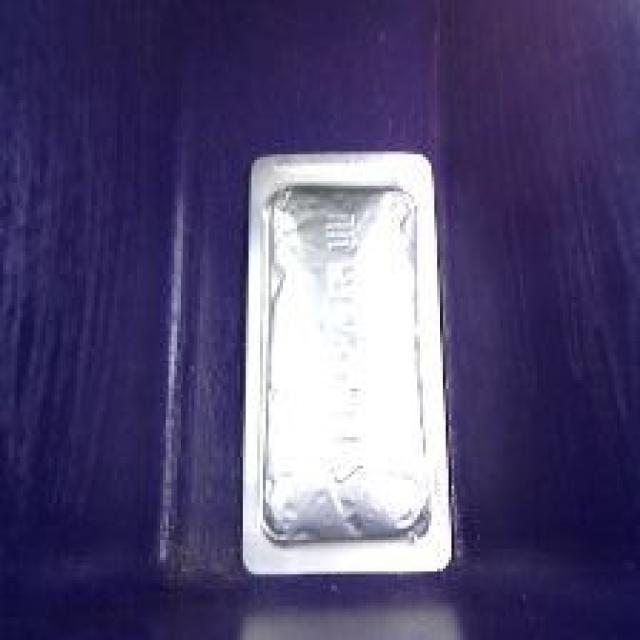med_plate: (222, 139, 467, 596)
